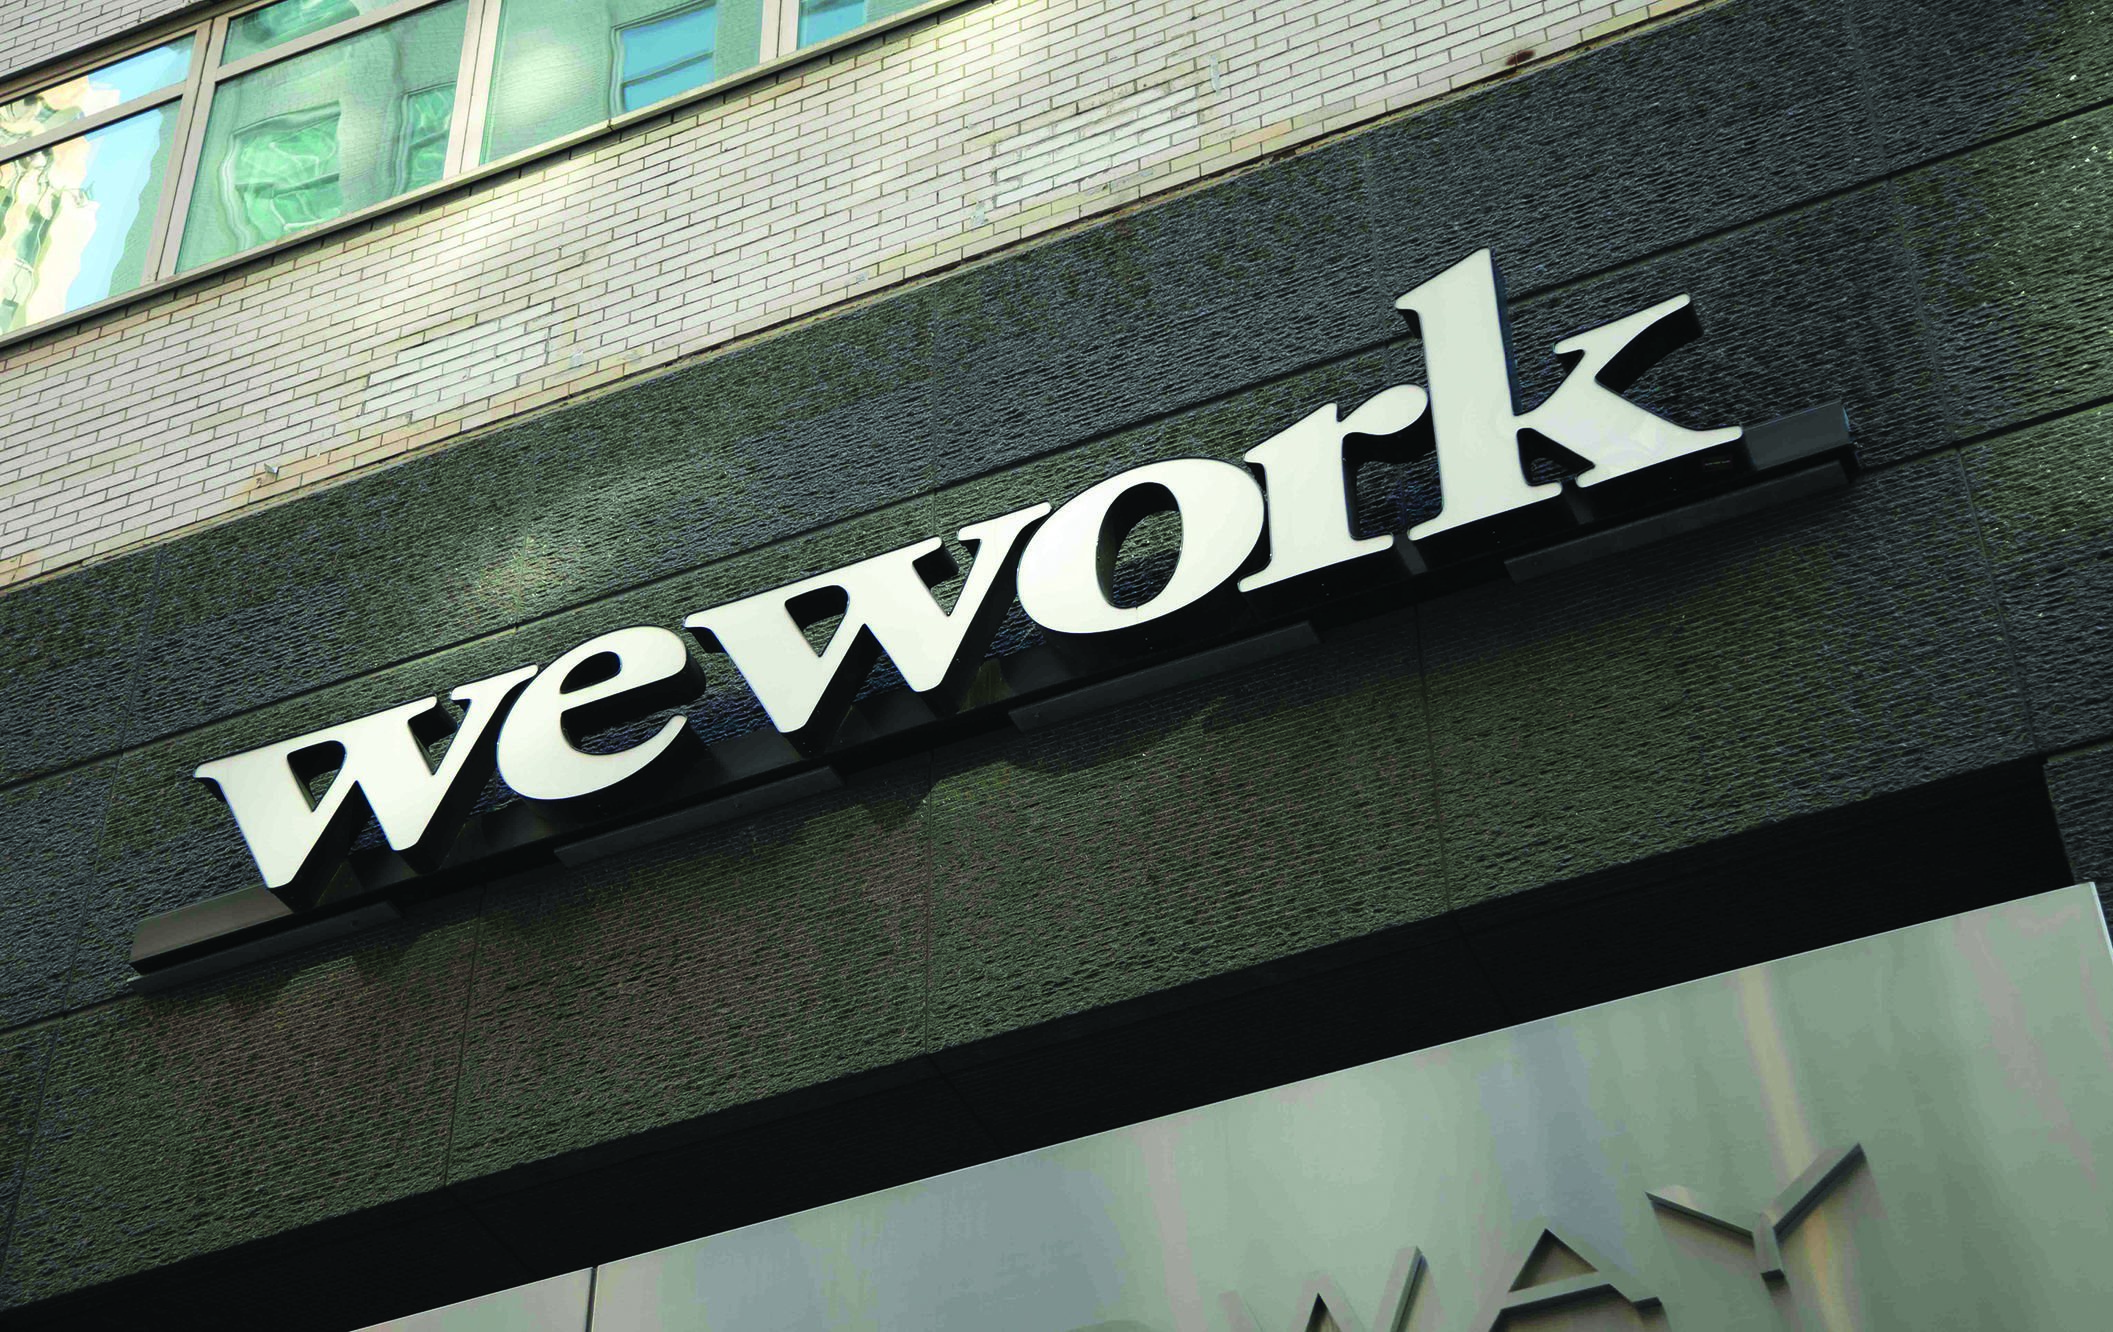wework: (178, 244, 1762, 905)
